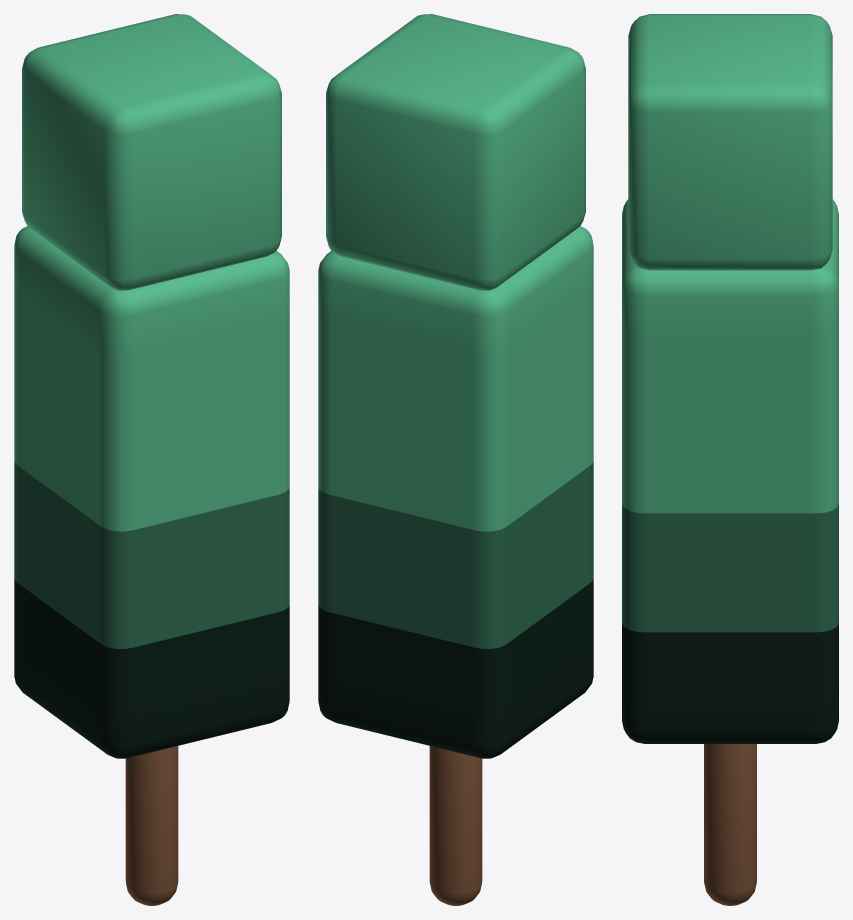
Rendered from Bush.glb.
3 views of the same model, side by side, from view 1: azimuth 30°, elevation 25°; view 2: azimuth 150°, elevation 25°; view 3: azimuth 270°, elevation 25° (orthographic).
Visible parts, largest first — view 1: Three, Bush; view 2: Three, Bush; view 3: Three, Bush.
Boxes of the visible parts, box(x1,y1,x2,y2) form: Three: box(14, 226, 289, 905); Bush: box(22, 14, 281, 290); Three: box(318, 226, 593, 905); Bush: box(326, 14, 585, 290); Three: box(622, 199, 838, 905); Bush: box(628, 14, 832, 270).
Bounding box in the file's own units: 0.2218 × 0.9619 × 0.2218.
